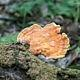Sulphur-yellow tinder fungus: (17, 23, 68, 58)
